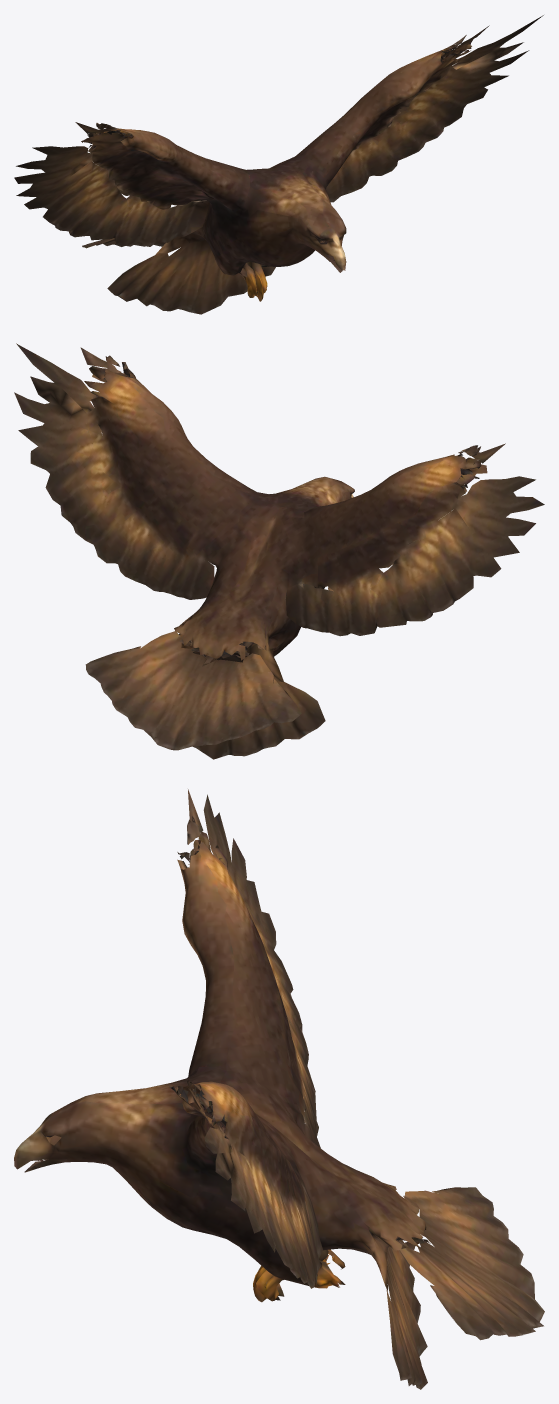
The model's file is eagle-flight.phone.glb.
The picture shows the model from 3 angles, top to bottom: view 1: azimuth 30°, elevation 25°; view 2: azimuth 150°, elevation 25°; view 3: azimuth 270°, elevation 25°; orthographic projection. The views are drawn at different scales.
Visible parts, largest first — view 1: eagle-flight.raw; view 2: eagle-flight.raw; view 3: eagle-flight.raw.
Boxes of the visible parts, left/top/right/bottom form: eagle-flight.raw: left=14, top=15, right=543, bottom=314; eagle-flight.raw: left=14, top=343, right=544, bottom=759; eagle-flight.raw: left=14, top=789, right=544, bottom=1389.
Bounding box in the file's own units: 1.09 × 0.6 × 0.6542.
Materials: 1 (1 with a texture image).
